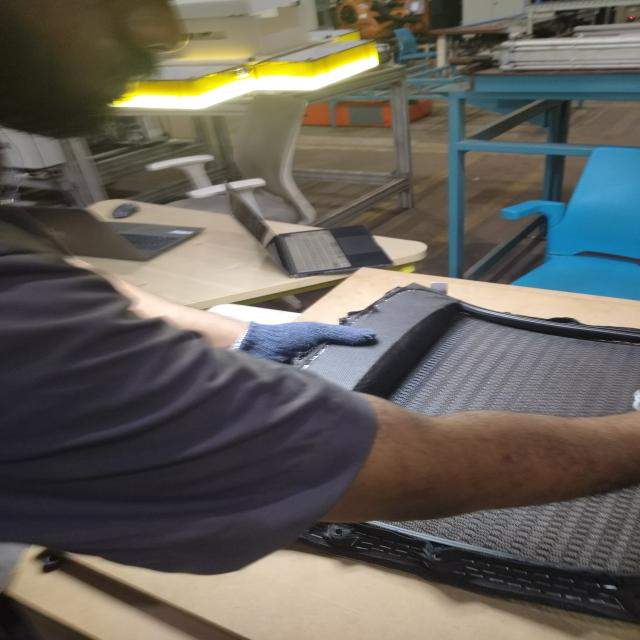Gloves-Detection: (234, 311, 360, 364)
